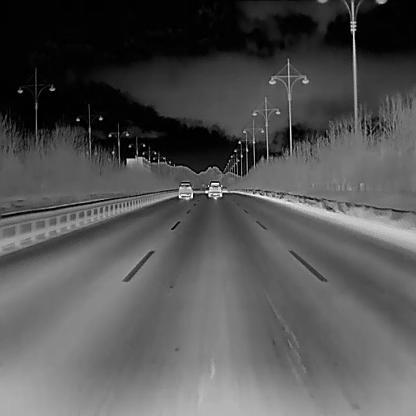car: (177, 180, 192, 199), (209, 181, 222, 198), (221, 185, 226, 193), (204, 187, 210, 193)
